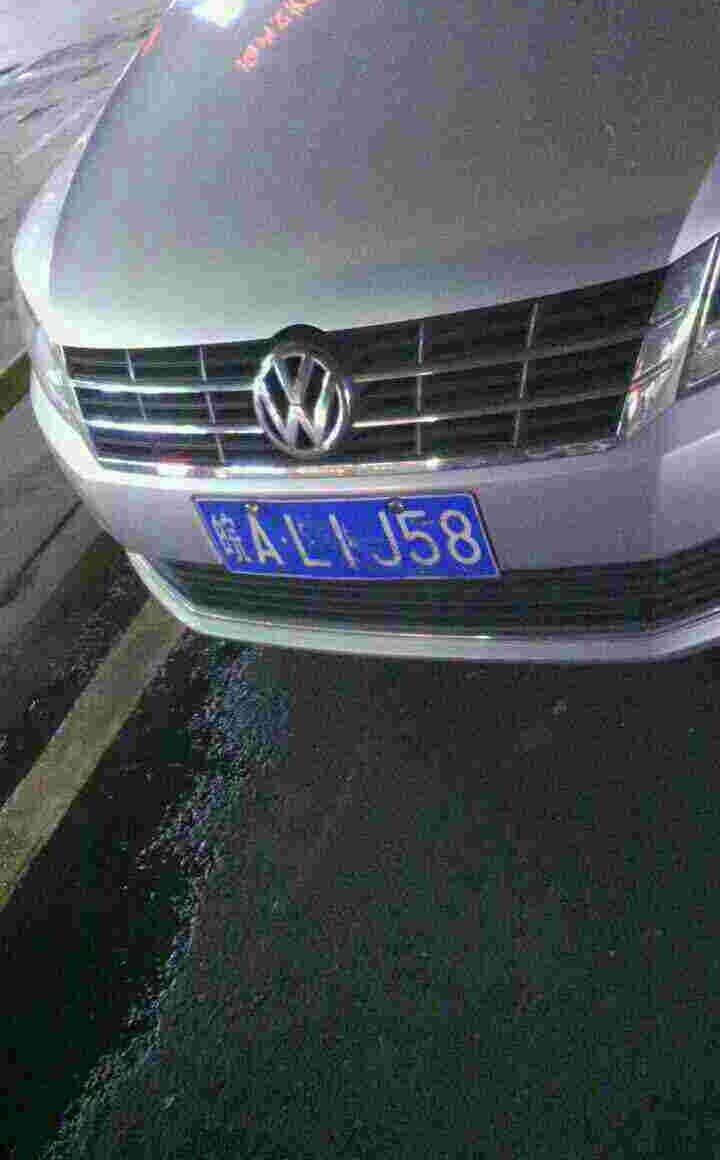license_plate: (202, 482, 506, 590)
